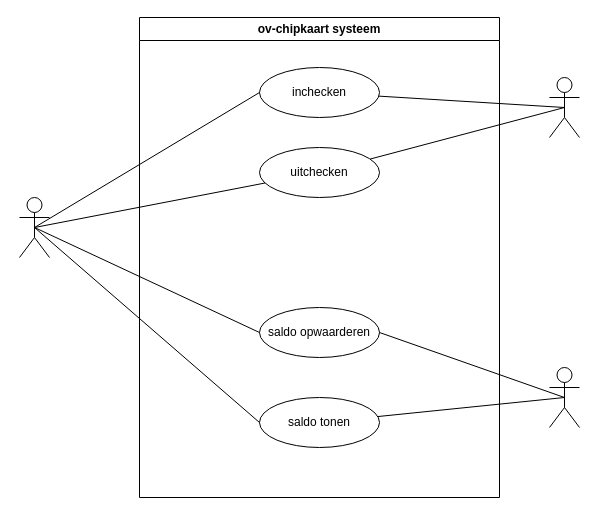
Some shapes in this 613 by 515 pixel diagram are drawn without their labels. Here are the shapes that lost their labels. From the top down, the centre of each, then its label:
the point at 564,107: incheckpaal
the point at 34,227: rijziger
the point at 564,397: oplaadpaal
